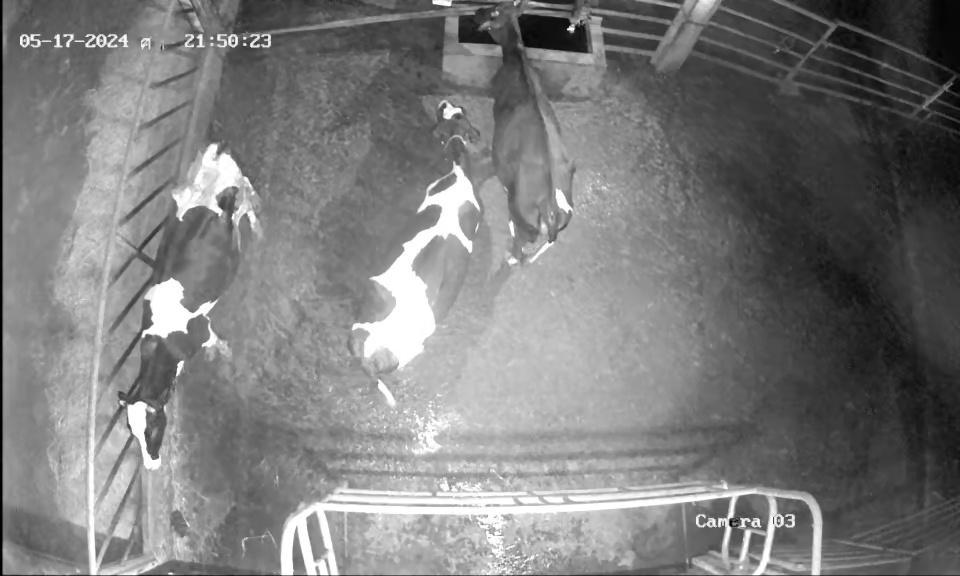drink: (464, 0, 547, 93)
stand: (110, 134, 273, 490), (343, 100, 484, 412)
